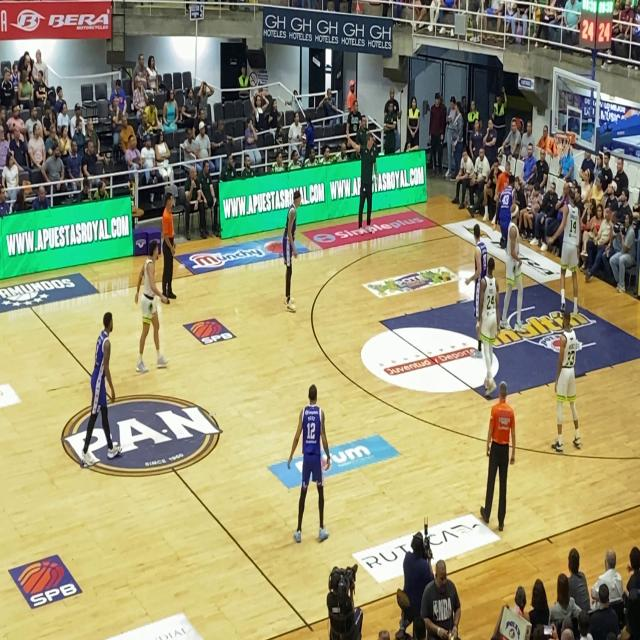referee: (479, 375, 523, 531), (158, 194, 182, 296)
team1: (127, 228, 164, 375), (550, 302, 583, 449), (474, 253, 504, 395), (499, 204, 525, 338)
team2: (282, 377, 330, 536), (85, 298, 123, 464)
ubasket: (554, 128, 574, 161)
